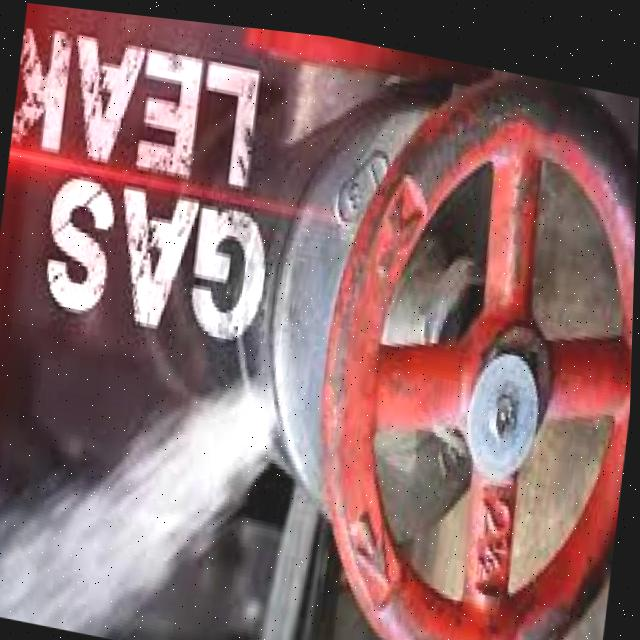corrosion: (94, 279, 367, 529)
